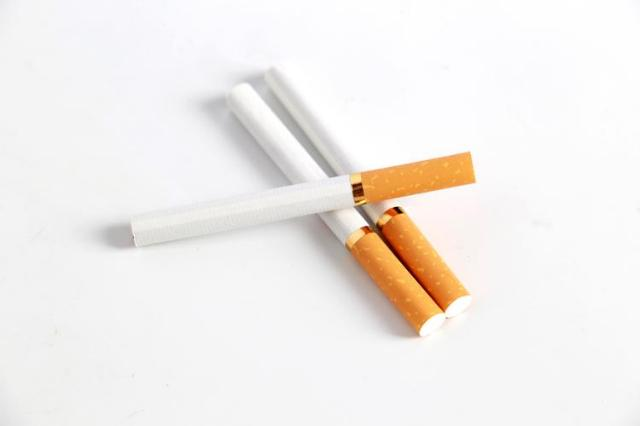Cigarette: (227, 82, 447, 338), (264, 65, 472, 319), (128, 151, 478, 249)
